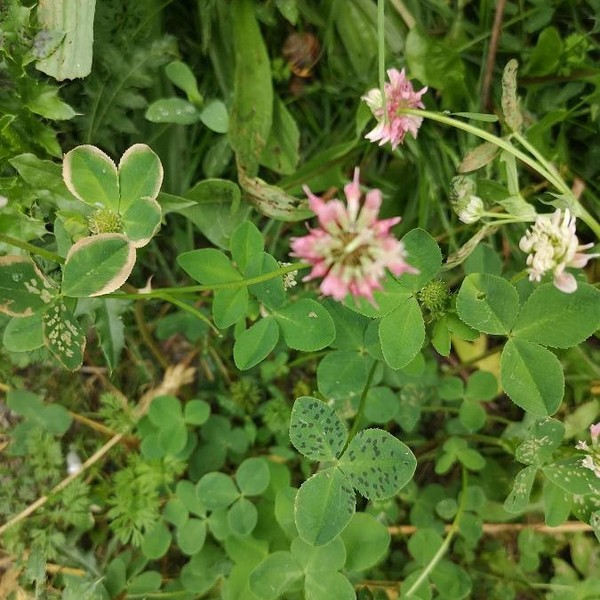obstacle: (57, 93, 541, 546)
